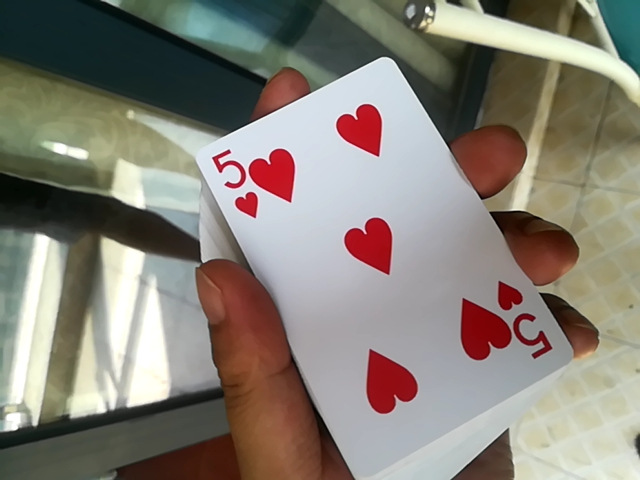hx 5: (190, 54, 567, 475)
